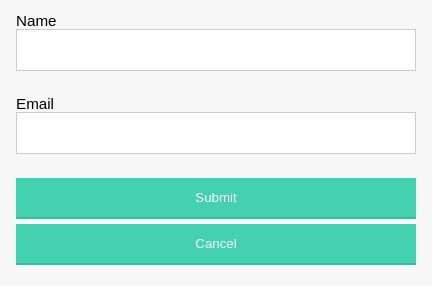
Test: FormComponent › Validate form › must show email validation
The width and height of the screenshot is (433, 304).
Type "user" into the field with test id "name" at (216, 50), box x1=16 y1=29 x2=416 y2=71
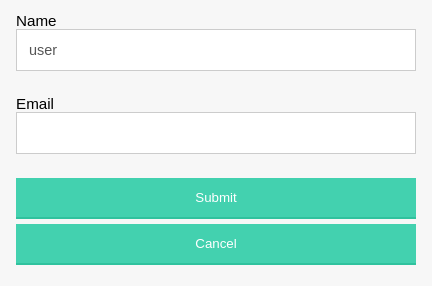
Type "mail@mail" into the field with test id "email" at (216, 133), box x1=16 y1=112 x2=416 y2=154
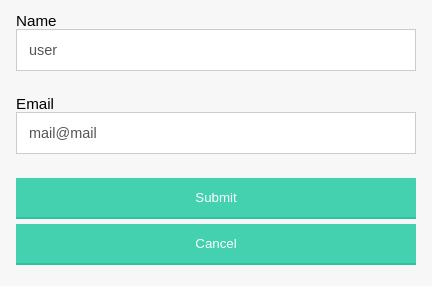
Click the button "Submit" at (216, 198), box x1=16 y1=178 x2=416 y2=219
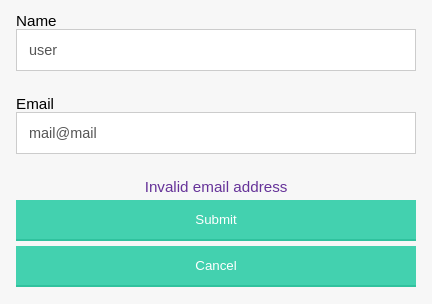
Check: the text "Invalid email address" is shown, box x1=145 y1=178 x2=287 y2=195
